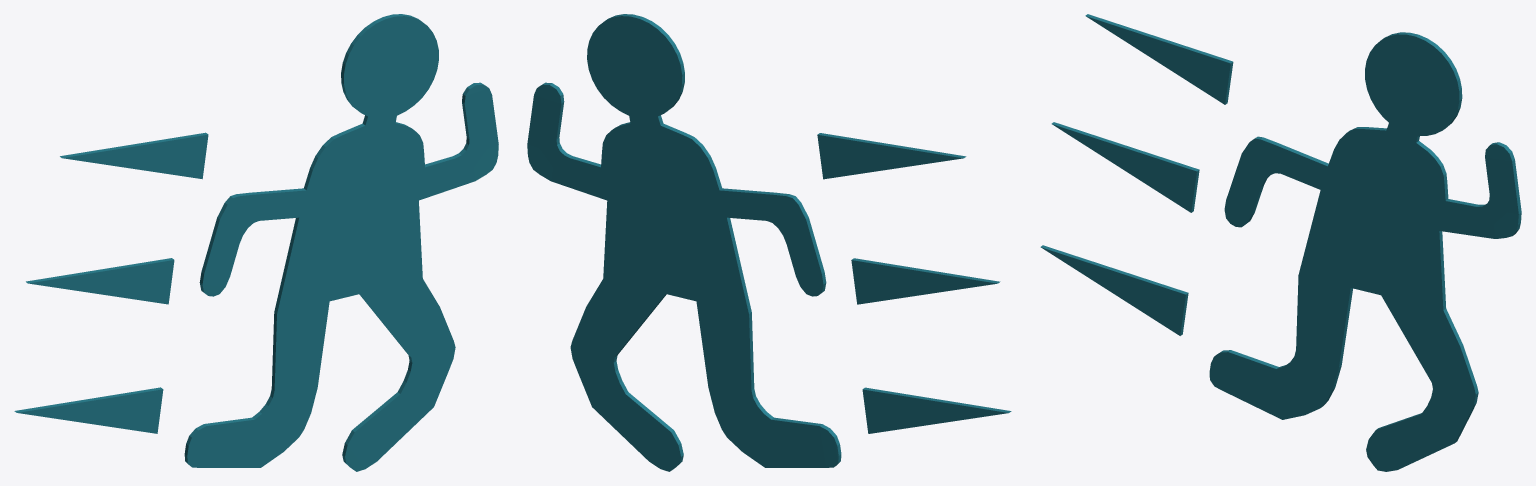
Rendered from Dash.fbx.
3 views of the same model, side by side, from view 1: azimuth 30°, elevation 25°; view 2: azimuth 150°, elevation 25°; view 3: azimuth 330°, elevation 25° (orthographic).
Visible parts, largest first — view 1: Cube; view 2: Cube; view 3: Cube.
Boxes of the visible parts, bbox=[...] form: Cube: bbox=[14, 14, 498, 471]; Cube: bbox=[527, 14, 1011, 471]; Cube: bbox=[1040, 14, 1521, 471].
Bounding box in the file's own units: 23.89 × 21.13 × 0.2603.
